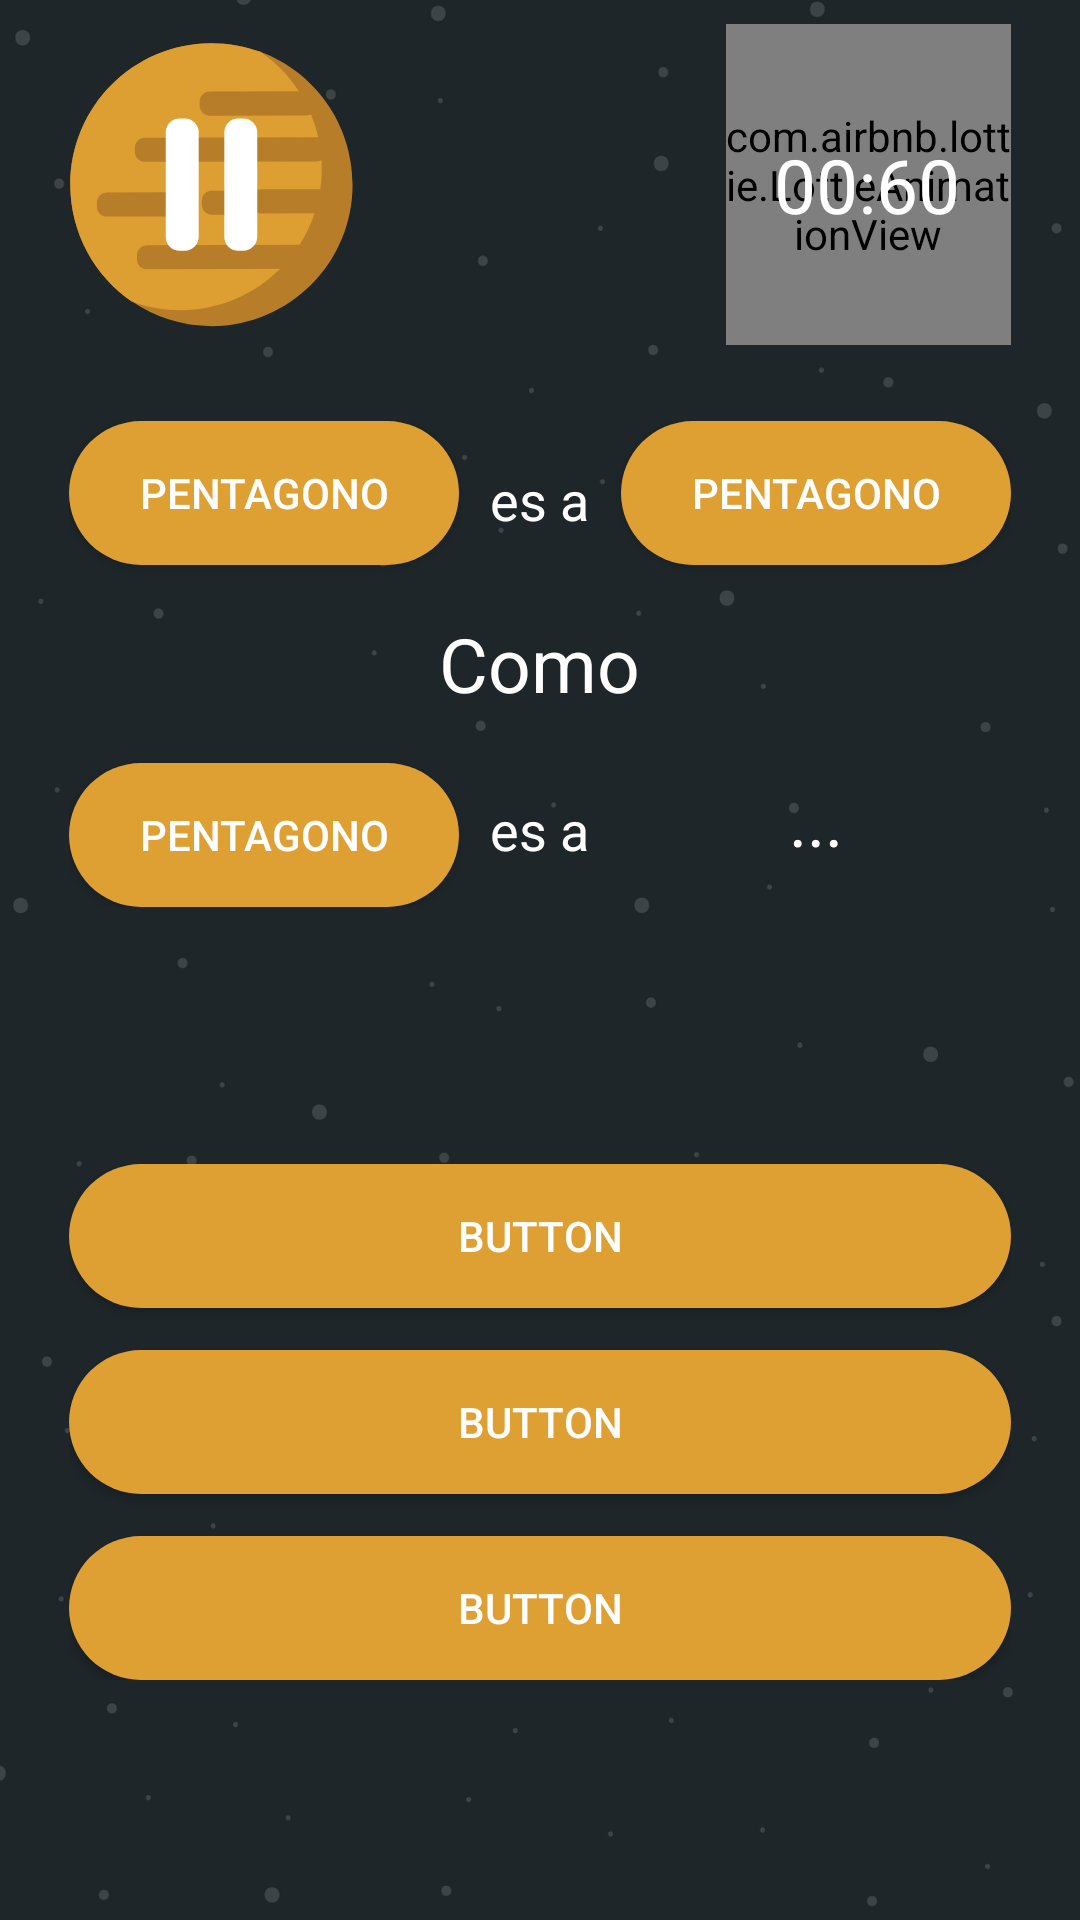

Named icons in this screenshot (1080 × 1920) and their bounding boxes, box(x1, y1, x2, y2):
pausa: box(70, 43, 353, 327)
